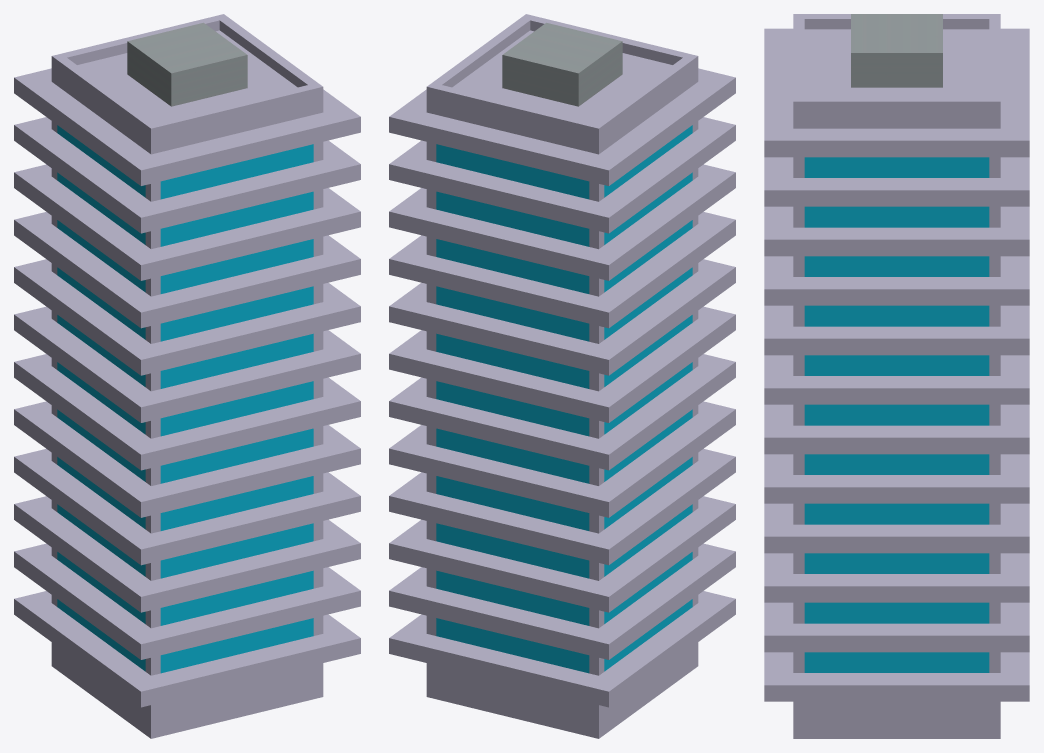
Rendered from china_building.fbx.
3 views of the same model, side by side, from view 1: azimuth 30°, elevation 25°; view 2: azimuth 150°, elevation 25°; view 3: azimuth 270°, elevation 25° (orthographic). The views are drawn at different scales.
Visible parts, largest first — view 1: Cube; view 2: Cube; view 3: Cube.
Boxes of the visible parts, x1,y1,x2,y2 form: Cube: [14, 14, 360, 738]; Cube: [389, 14, 735, 738]; Cube: [764, 14, 1029, 738].
Size of the model in its own units: 2300 by 6333 by 2300.
